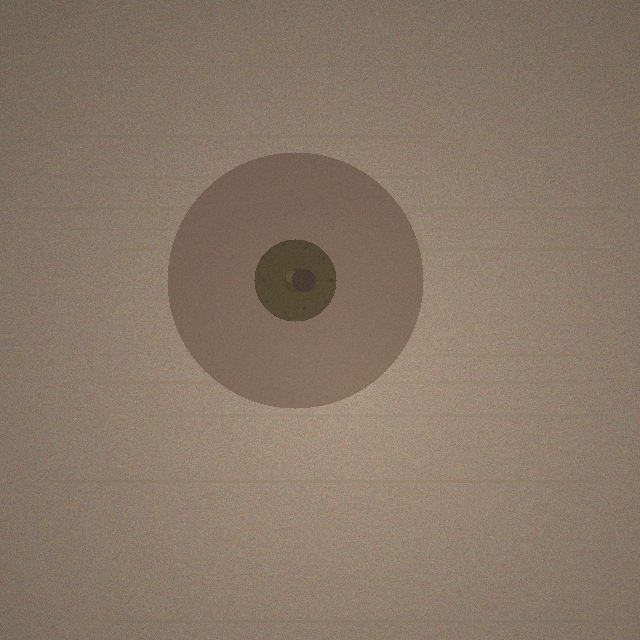cold_weld: (167, 152, 423, 408)
